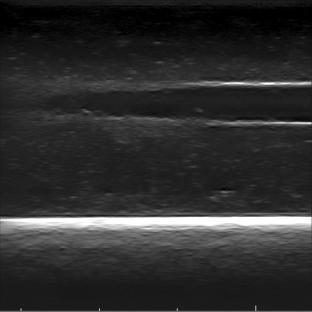vessel: (89, 79, 311, 129)
